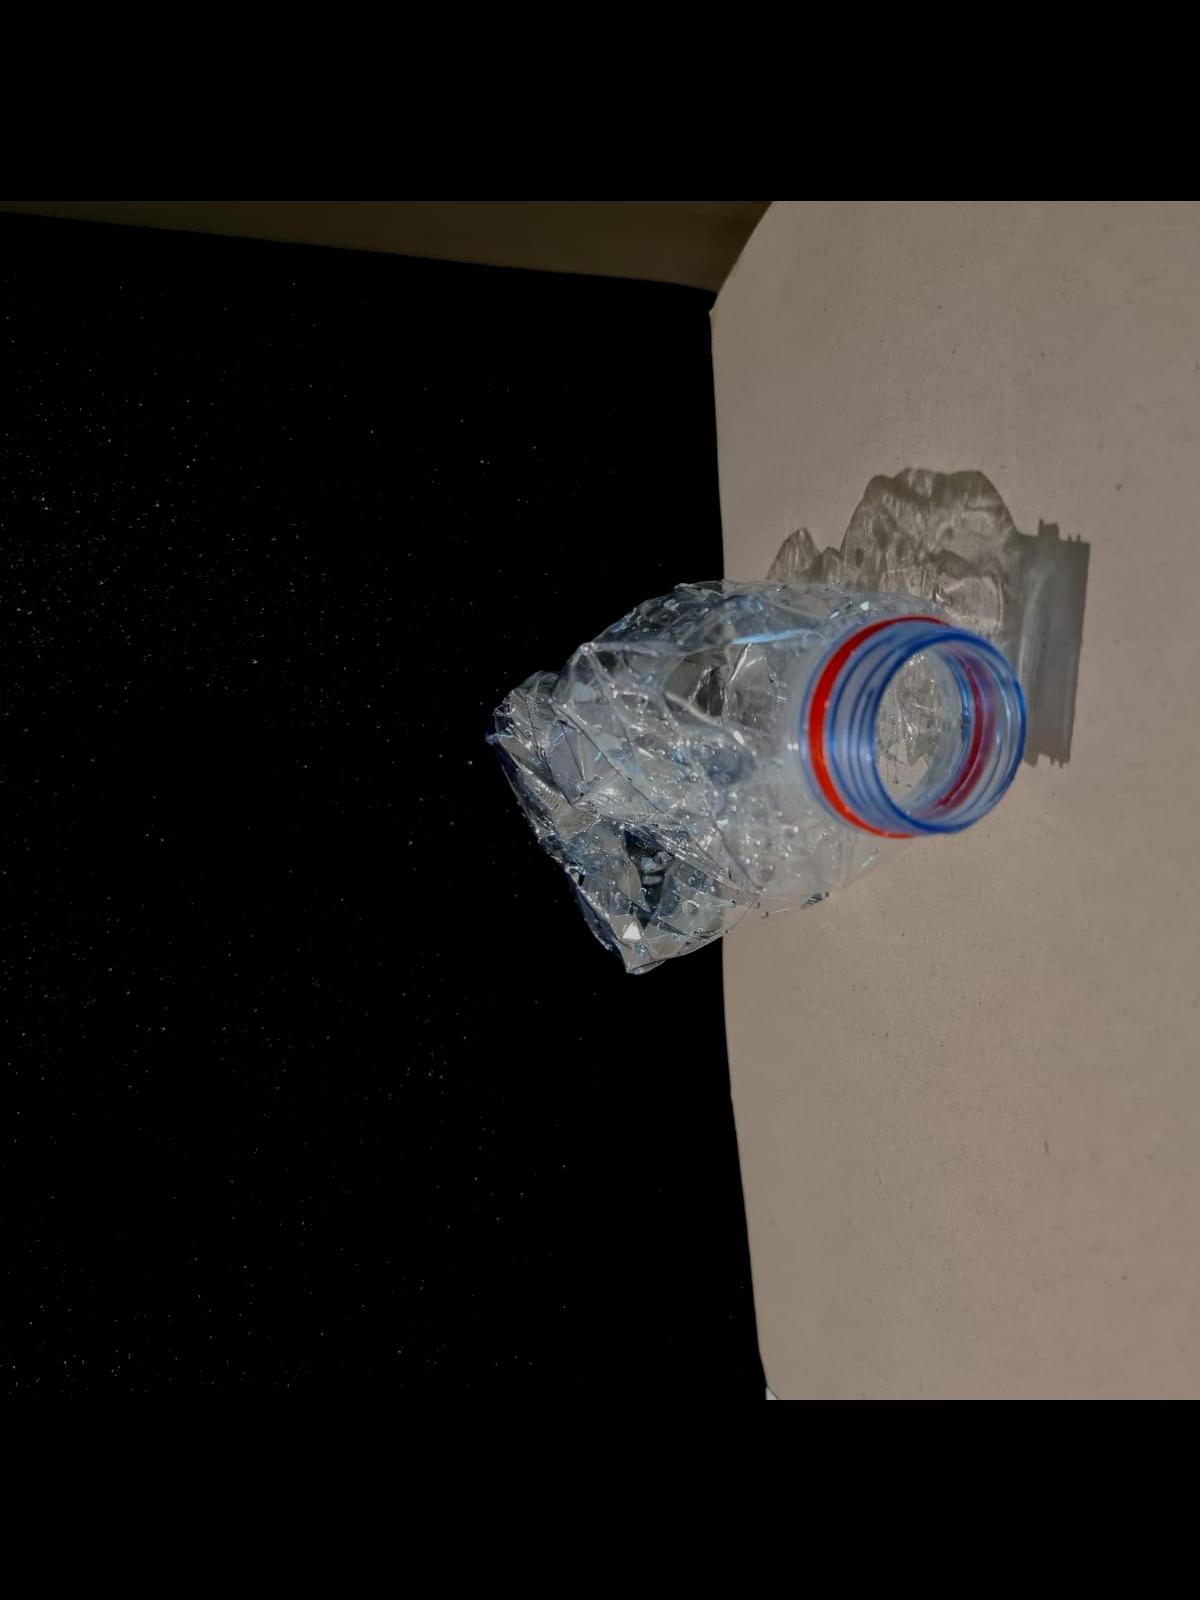bottle: (482, 598, 1013, 957)
